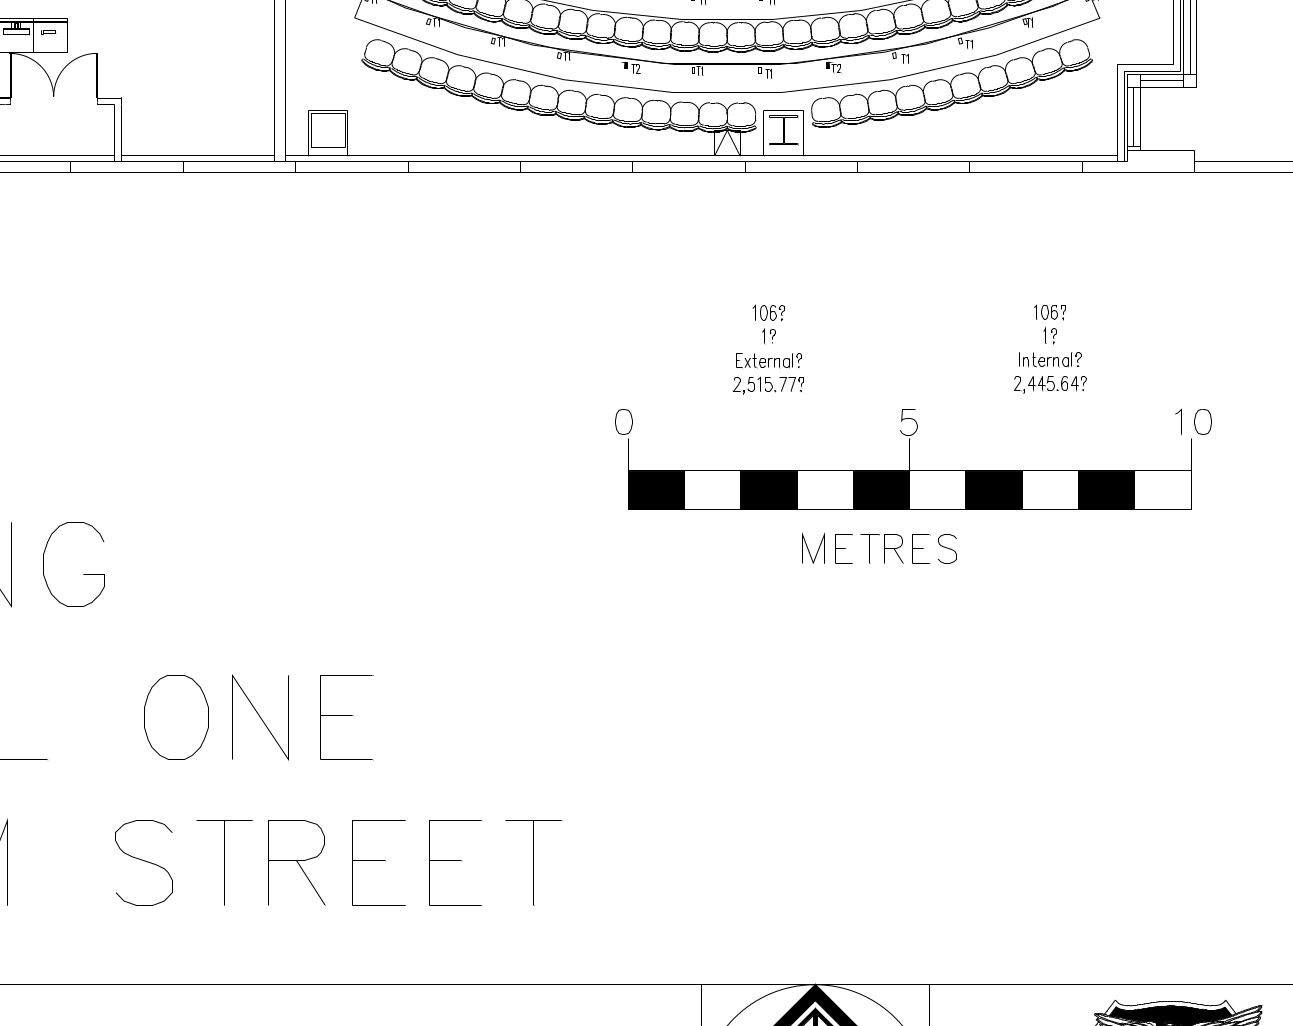door: (54, 49, 107, 108), (1, 52, 52, 111)
